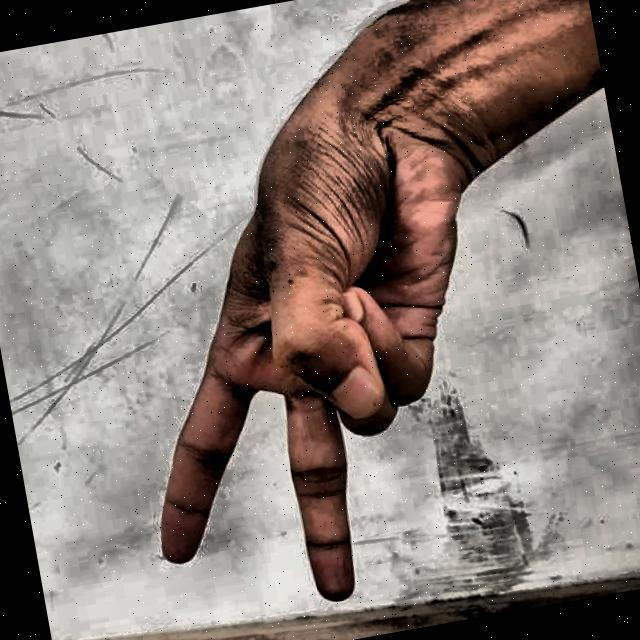Pa: (67, 34, 550, 640)
